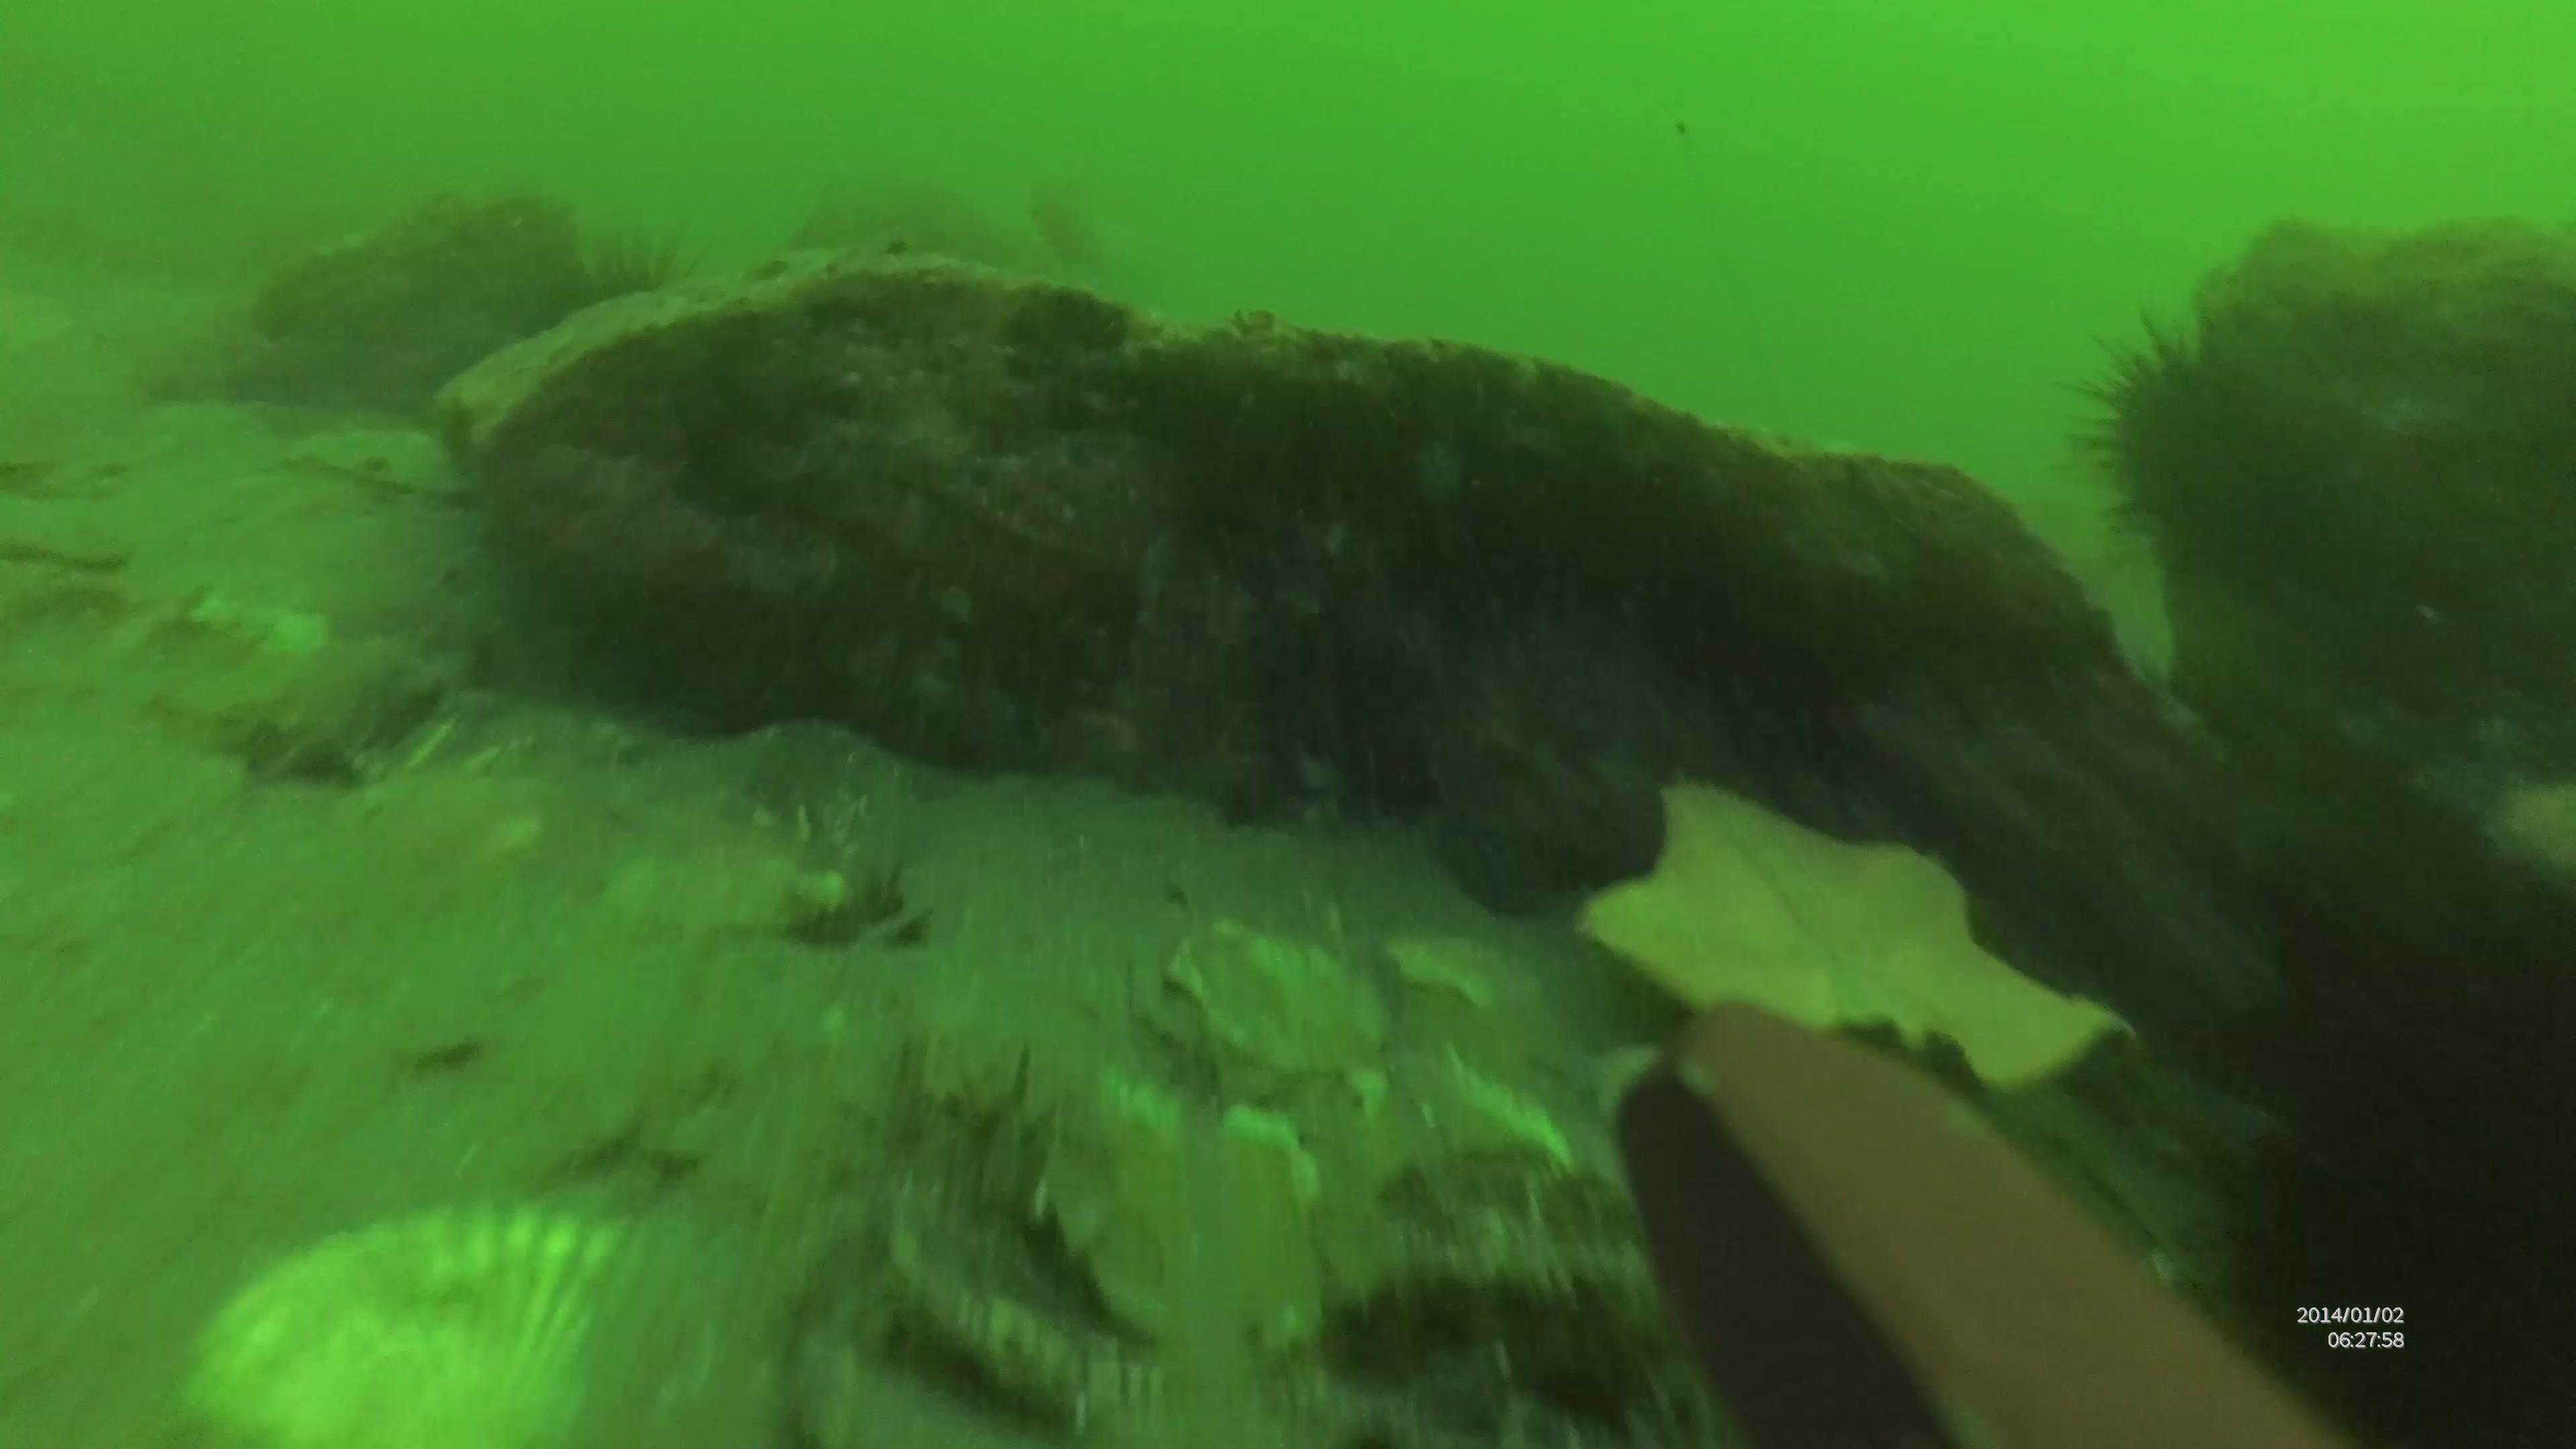echinus: (2070, 340, 2307, 552), (517, 234, 734, 373)
scallop: (166, 1200, 623, 1449)
starfish: (1585, 770, 2125, 1072)
